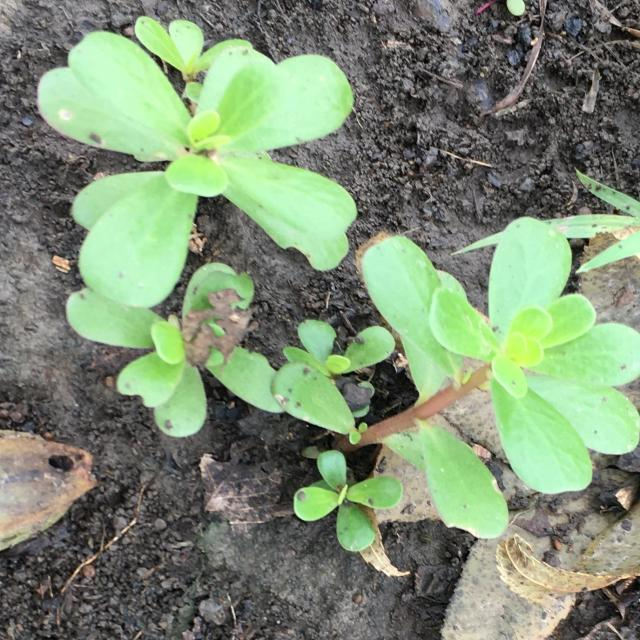Purslane: (271, 217, 640, 552), (38, 15, 358, 308), (66, 262, 286, 439)
